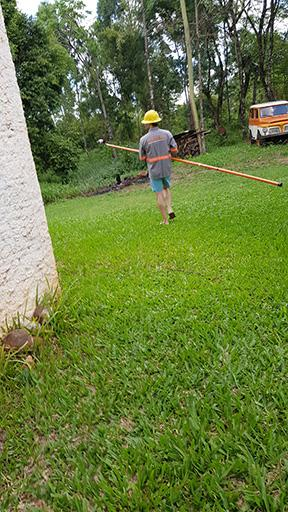Vara_Manobra: (104, 143, 282, 187)
